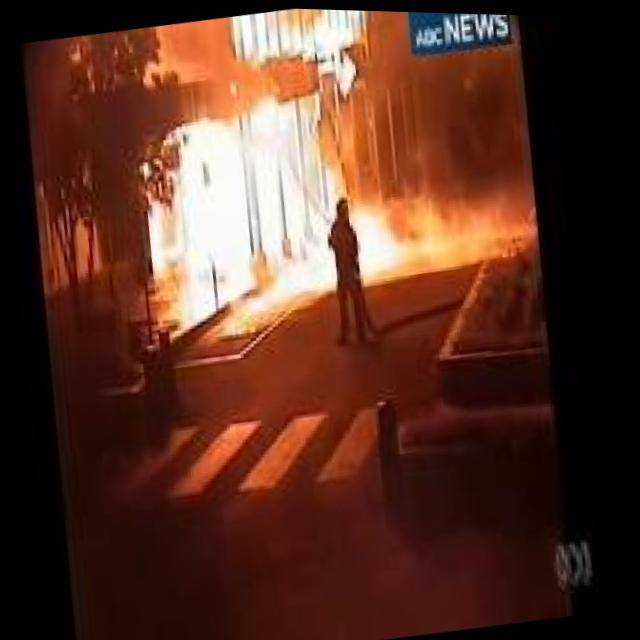fire: (119, 3, 460, 324)
